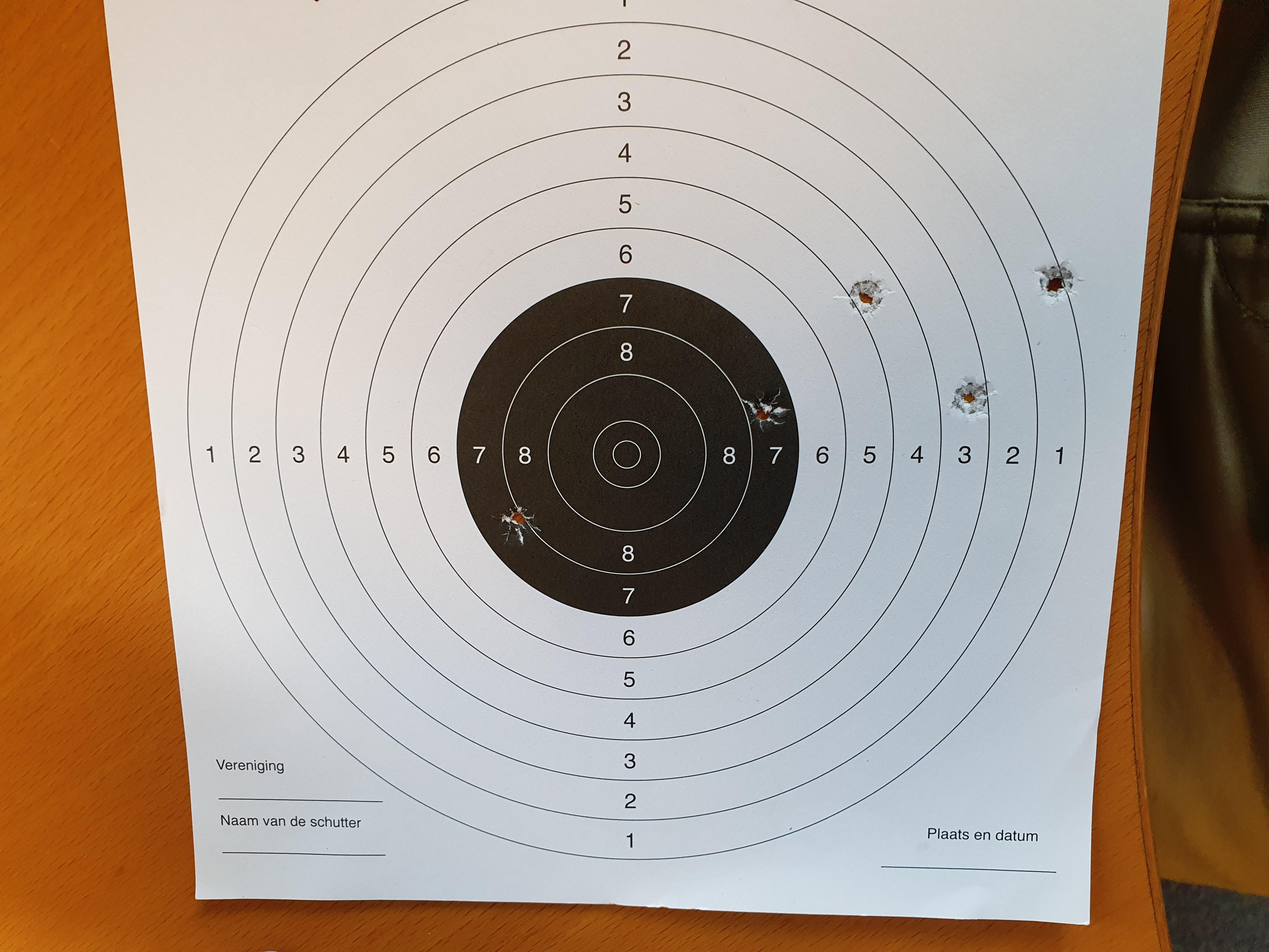hole: (713, 708, 770, 750), (691, 556, 755, 593), (539, 371, 599, 405), (861, 778, 926, 809), (846, 635, 901, 665)
